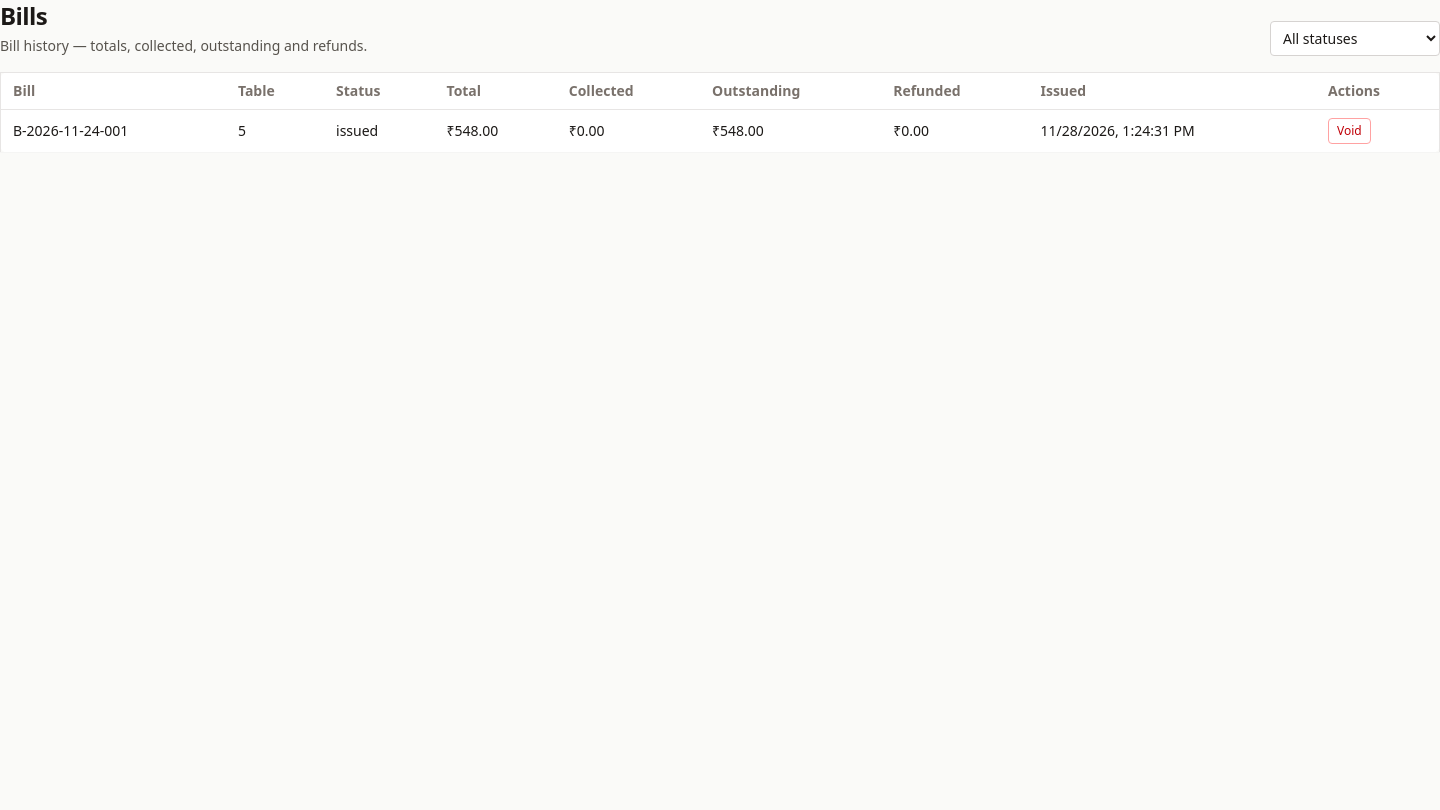
Scenario: Admin pages (Stage 7) › bills page voids a bill only after a reason and confirmation
This screenshot has width=1440, height=810.
Later steps or results of the test are not shown.
Expected: the text "B-2026-11-24-001" is shown, [0, 110, 226, 152]
Click the button "Void". click: (1349, 131)
box: [1328, 118, 1371, 144]
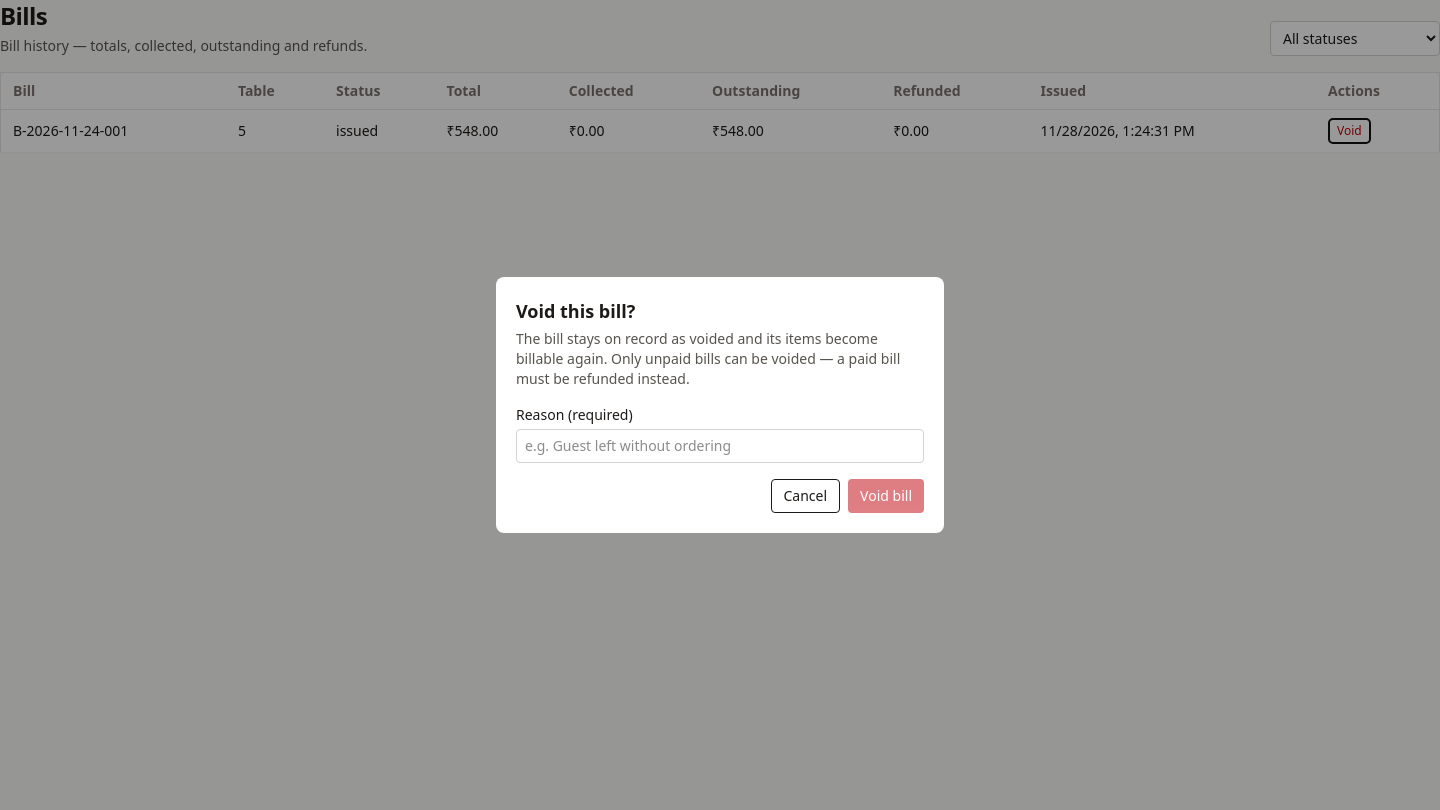
Now the heading "Void this bill?" is shown, box [516, 299, 635, 323]
